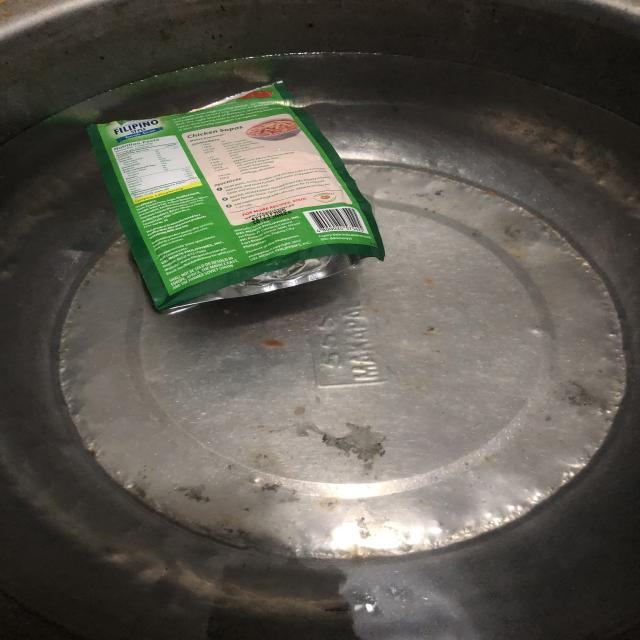Plastic Pouch: (94, 83, 390, 322)
